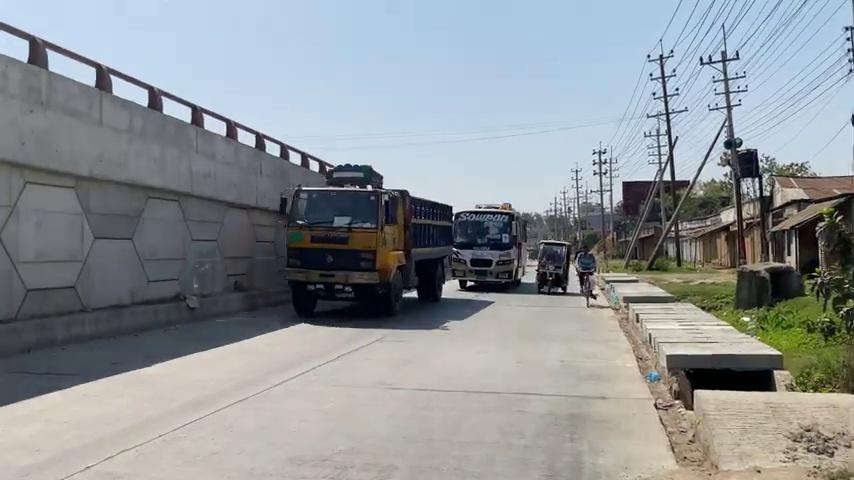Curb: (534, 261, 567, 294), (574, 266, 597, 307)
Fallen-tree: (0, 12, 244, 307)
Fence: (574, 244, 597, 297)
Garbage: (699, 23, 749, 267), (646, 43, 687, 267)
Garbage-bin: (673, 364, 777, 410)
Rickshaw: (278, 162, 454, 318), (450, 201, 527, 290), (534, 239, 572, 294)
